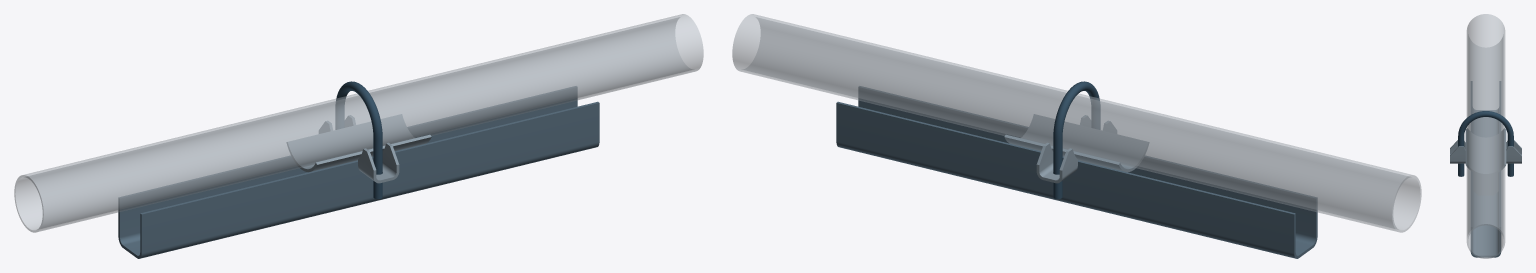
The model's file is TS-748.00.00.02-opora-dn76-L680.glb.
3 views of the same model, side by side, from view 1: azimuth 30°, elevation 25°; view 2: azimuth 150°, elevation 25°; view 3: azimuth 270°, elevation 25° (orthographic). The views are drawn at different scales.
Visible parts, largest first — view 1: truba, skoba_0, podushka_3, homut_0, ushko_5; view 2: truba, skoba_0, podushka_3, homut_0, ushko_4; view 3: truba, skoba_0, podushka_3, homut_0, rebro4_2, ushko_4, ushko_5.
Boxes of the visible parts, bbox=[...] form: truba: bbox=[14, 14, 703, 232]; skoba_0: bbox=[118, 86, 599, 258]; podushka_3: bbox=[287, 114, 431, 172]; homut_0: bbox=[335, 81, 382, 199]; ushko_5: bbox=[358, 142, 399, 183]; truba: bbox=[732, 14, 1421, 232]; skoba_0: bbox=[836, 86, 1317, 258]; podushka_3: bbox=[1004, 114, 1148, 172]; homut_0: bbox=[1053, 81, 1100, 199]; ushko_4: bbox=[1036, 142, 1077, 183]; truba: bbox=[1466, 14, 1505, 258]; skoba_0: bbox=[1470, 81, 1501, 257]; podushka_3: bbox=[1465, 128, 1506, 175]; homut_0: bbox=[1458, 111, 1513, 176]; rebro4_2: bbox=[1473, 173, 1498, 195]; ushko_4: bbox=[1506, 140, 1521, 163]; ushko_5: bbox=[1450, 140, 1465, 163].
Size of the model in its own units: 980 by 160 by 141.
